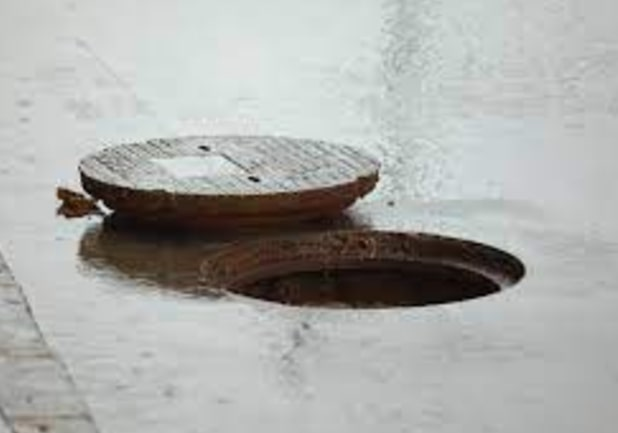open_manhole: (192, 225, 525, 309)
